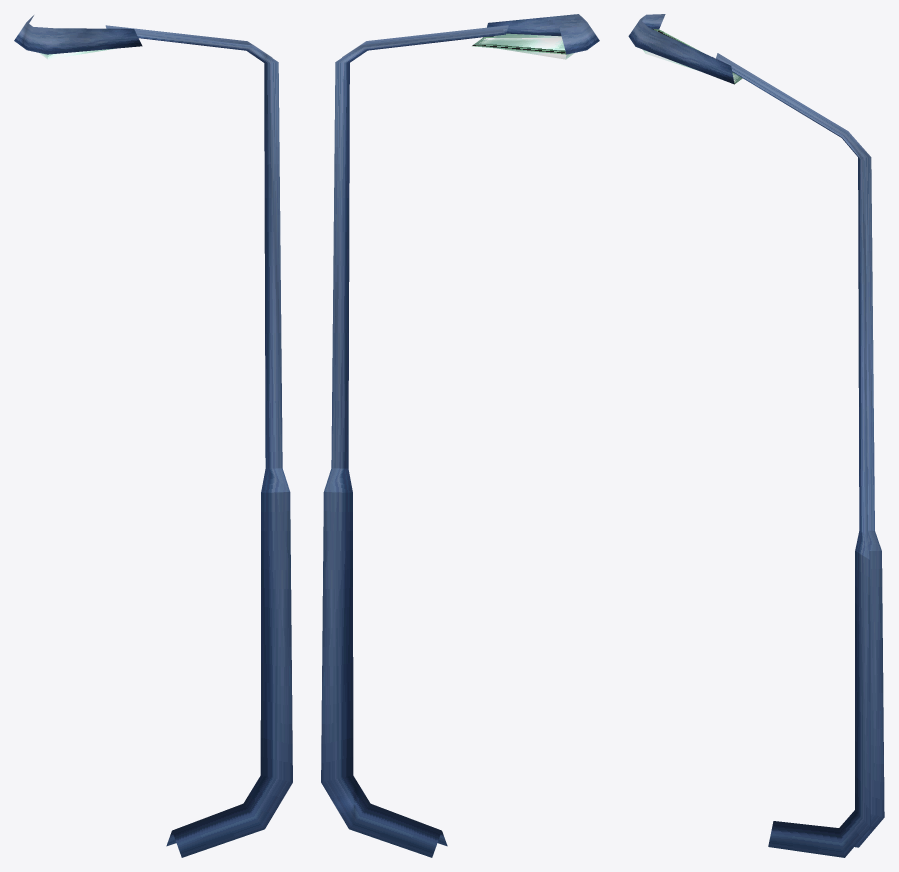
The model's file is stage-flor-p3-403.glb.
3 views of the same model, side by side, from view 1: azimuth 30°, elevation 25°; view 2: azimuth 150°, elevation 25°; view 3: azimuth 330°, elevation 25° (orthographic). The views are drawn at different scales.
Size of the model in its own units: 2.88 by 8.97 by 0.4868.
1 material, 1 textured.
